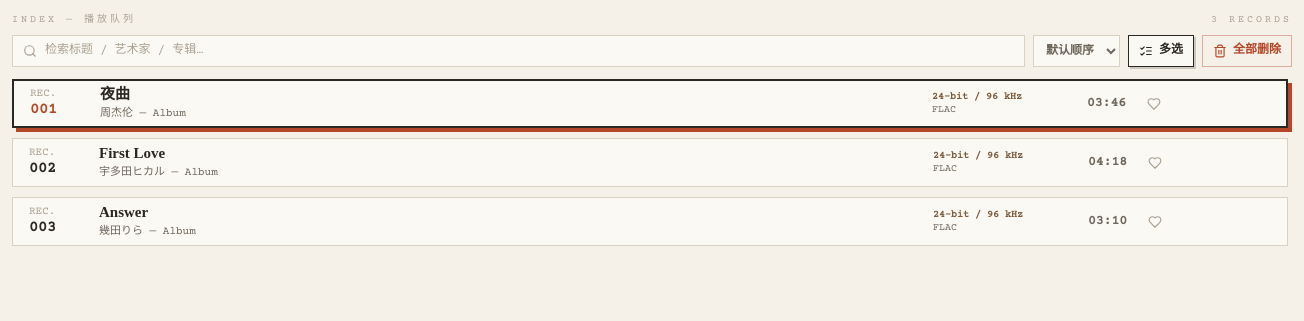
it: TrackRows › 搜索改变时清空旧选择，全部删除仅固定搜索结果
The width and height of the screenshot is (1304, 321).
Click the button named "多选曲目".
click(1161, 51)  # box [1128, 35, 1194, 67]
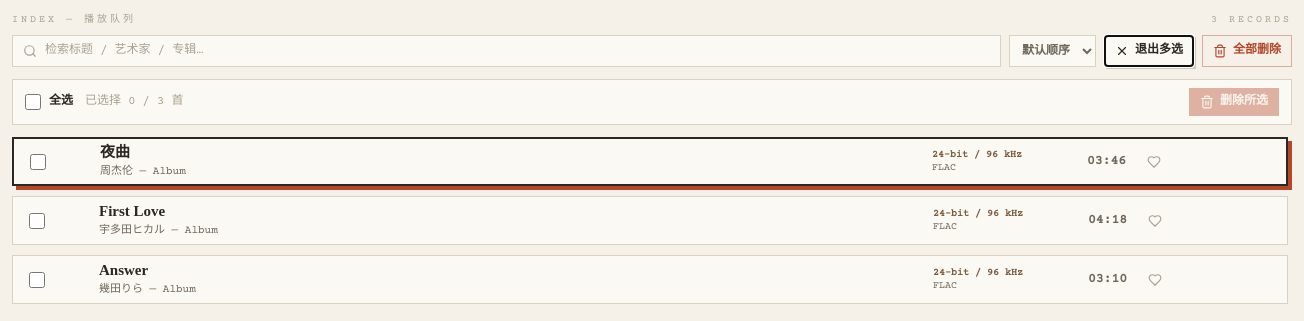
Click the checkbox named "全选当前列表".
click(33, 102)  # box [25, 94, 41, 110]
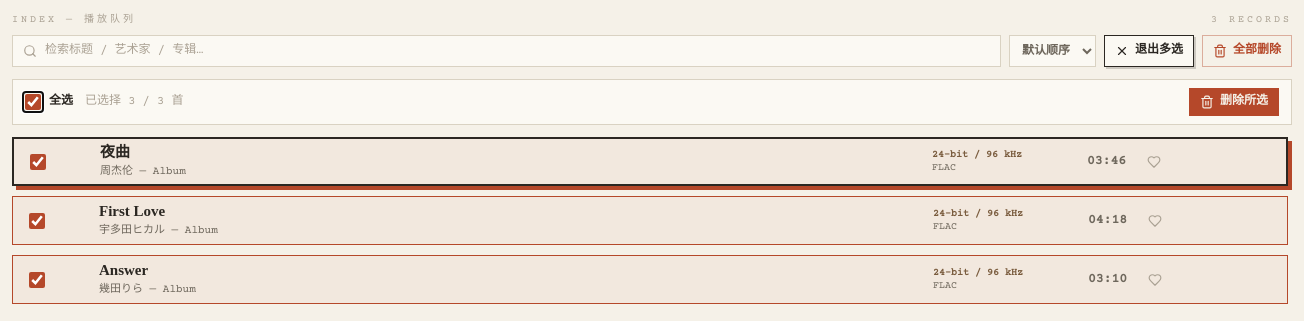
Type "first" into the field named "检索曲目".
click(518, 51); type("first")  # box [45, 43, 990, 59]
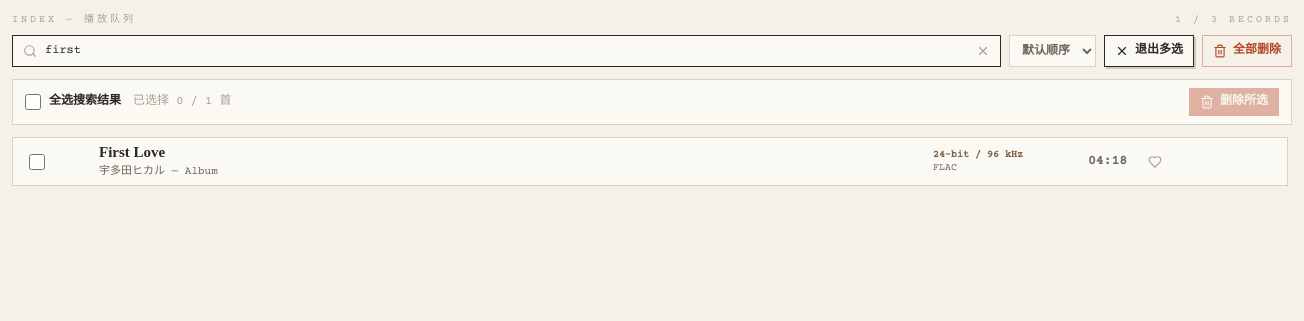
Check: the text "已选择 0 / 1 首" is shown, box [133, 94, 231, 110]
Click the button "全部删除".
click(1247, 51)  # box [1202, 35, 1292, 67]
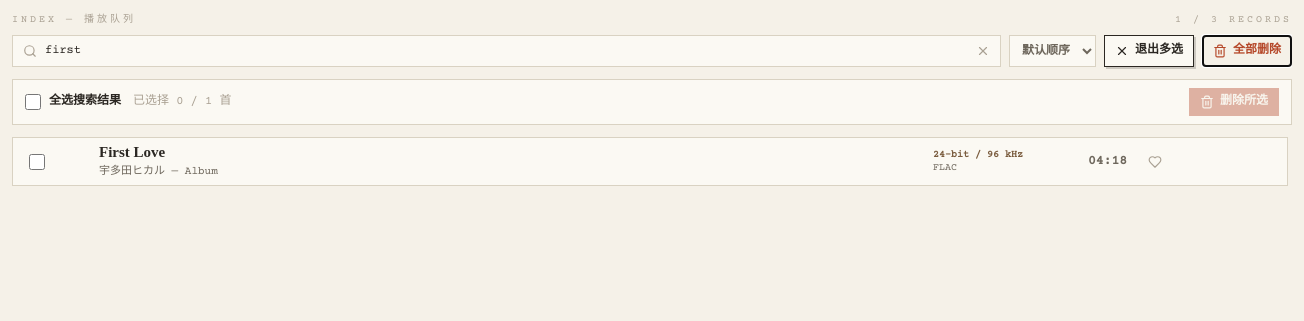
Type "missing" into the field named "检索曲目".
click(506, 51); type("missing")  # box [45, 43, 968, 59]
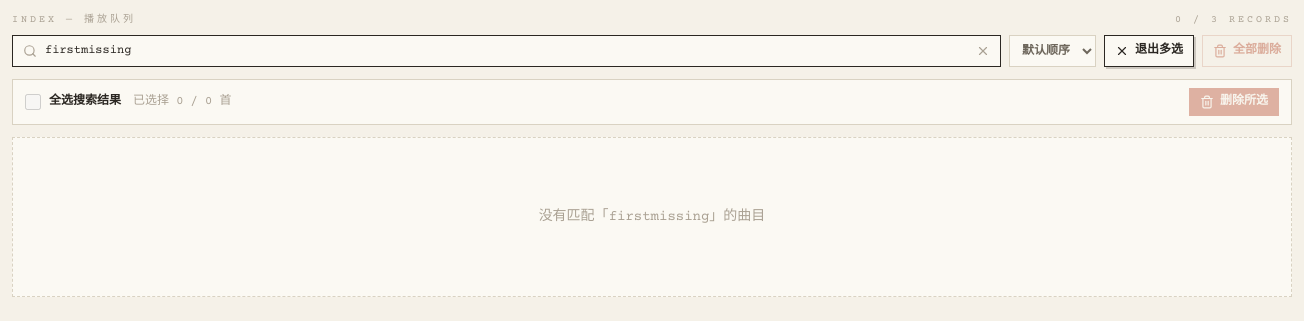
Check: the button "全部删除" is disabled, box [1202, 35, 1292, 67]
